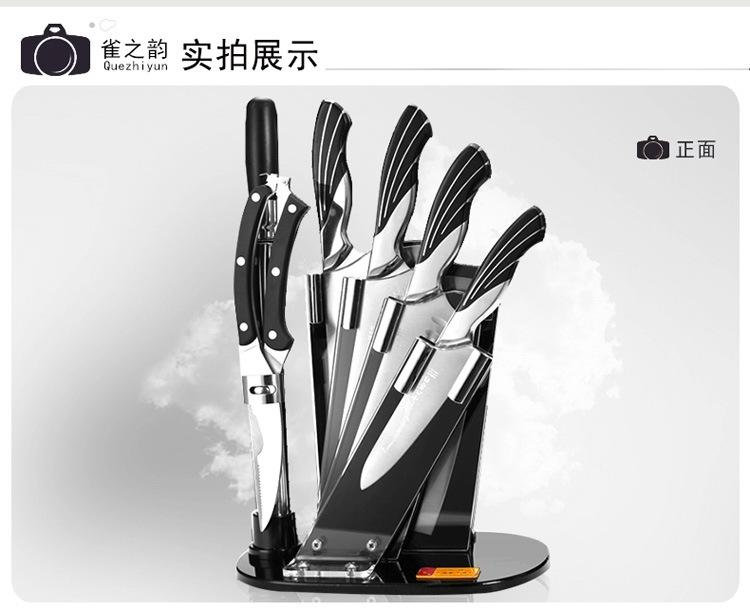knife: (225, 91, 530, 584)
